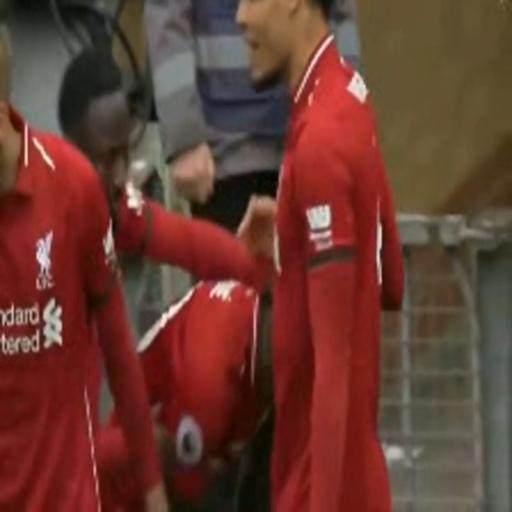nao-violencia: (41, 43, 316, 509)
